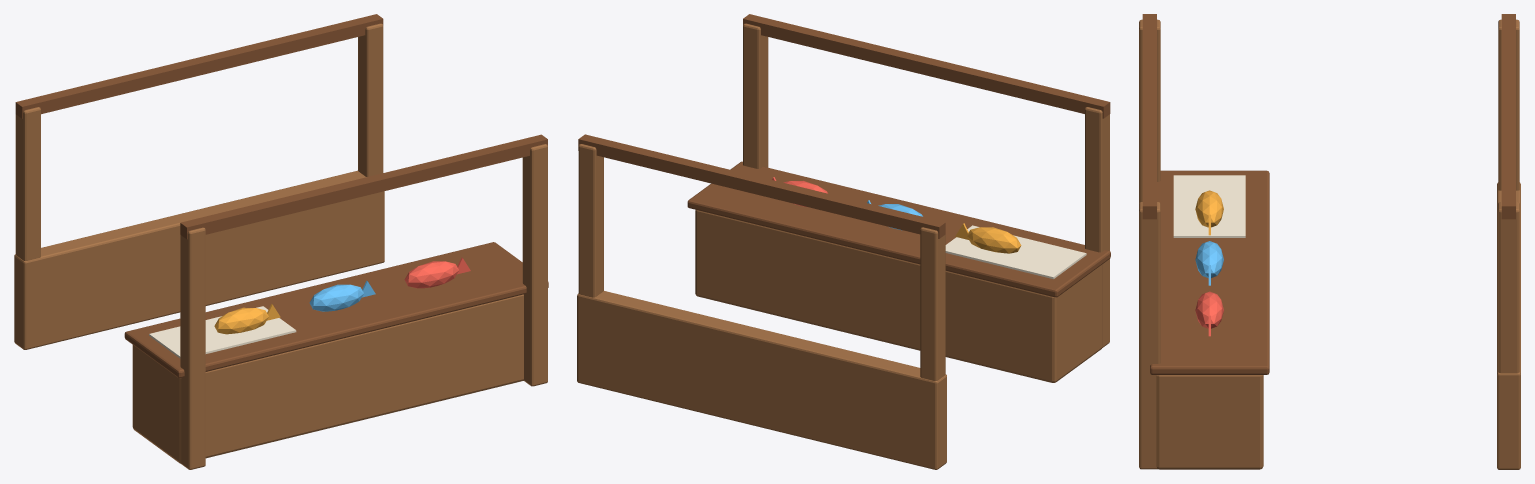
The model's file is choi-cau.glb.
3 views of the same model, side by side, from view 1: azimuth 30°, elevation 25°; view 2: azimuth 150°, elevation 25°; view 3: azimuth 270°, elevation 25° (orthographic). The views are drawn at different scales.
Visible parts, largest first — view 1: choi-cau-5, choi-cau-4, choi-cau-6, choi-cau-7, choi-cau-8, choi-cau-2, choi-cau-3, choi-cau-0, choi-cau-1, choi-cau-9, choi-cau-12, choi-cau-14 (+1 smaller); view 2: choi-cau-4, choi-cau-5, choi-cau-6, choi-cau-7, choi-cau-8, choi-cau-2, choi-cau-0, choi-cau-1, choi-cau-3, choi-cau-9, choi-cau-10; view 3: choi-cau-6, choi-cau-5, choi-cau-3, choi-cau-9, choi-cau-1, choi-cau-4, choi-cau-7, choi-cau-8, choi-cau-2, choi-cau-0, choi-cau-10, choi-cau-14 (+1 smaller).
Part boxes in pixels (x1=…): choi-cau-5: x1=132, y1=294, x2=523, y2=463; choi-cau-4: x1=14, y1=170, x2=384, y2=349; choi-cau-6: x1=124, y1=242, x2=548, y2=378; choi-cau-7: x1=15, y1=14, x2=383, y2=118; choi-cau-8: x1=180, y1=134, x2=547, y2=239; choi-cau-2: x1=180, y1=227, x2=205, y2=469; choi-cau-3: x1=522, y1=144, x2=547, y2=386; choi-cau-0: x1=15, y1=107, x2=40, y2=260; choi-cau-1: x1=358, y1=23, x2=383, y2=176; choi-cau-9: x1=149, y1=306, x2=296, y2=358; choi-cau-12: x1=309, y1=284, x2=363, y2=311; choi-cau-14: x1=404, y1=261, x2=458, y2=288; choi-cau-4: x1=577, y1=291, x2=946, y2=469; choi-cau-5: x1=695, y1=210, x2=1102, y2=382; choi-cau-6: x1=687, y1=161, x2=1110, y2=297; choi-cau-7: x1=578, y1=134, x2=945, y2=238; choi-cau-8: x1=743, y1=14, x2=1110, y2=118; choi-cau-2: x1=1085, y1=107, x2=1109, y2=347; choi-cau-0: x1=920, y1=227, x2=945, y2=380; choi-cau-1: x1=578, y1=144, x2=603, y2=297; choi-cau-3: x1=743, y1=23, x2=768, y2=168; choi-cau-9: x1=945, y1=225, x2=1086, y2=279; choi-cau-10: x1=967, y1=227, x2=1021, y2=253; choi-cau-6: x1=1150, y1=170, x2=1269, y2=374; choi-cau-5: x1=1156, y1=375, x2=1263, y2=469; choi-cau-3: x1=1139, y1=202, x2=1160, y2=469; choi-cau-9: x1=1173, y1=175, x2=1245, y2=237; choi-cau-1: x1=1498, y1=202, x2=1519, y2=373; choi-cau-4: x1=1497, y1=182, x2=1520, y2=469; choi-cau-7: x1=1501, y1=14, x2=1515, y2=219; choi-cau-8: x1=1142, y1=14, x2=1156, y2=219; choi-cau-2: x1=1139, y1=19, x2=1160, y2=203; choi-cau-0: x1=1498, y1=19, x2=1519, y2=190; choi-cau-10: x1=1195, y1=190, x2=1223, y2=227; choi-cau-14: x1=1195, y1=291, x2=1223, y2=328.
Size of the model in its own units: 3.9 by 2.44 by 3.19.
